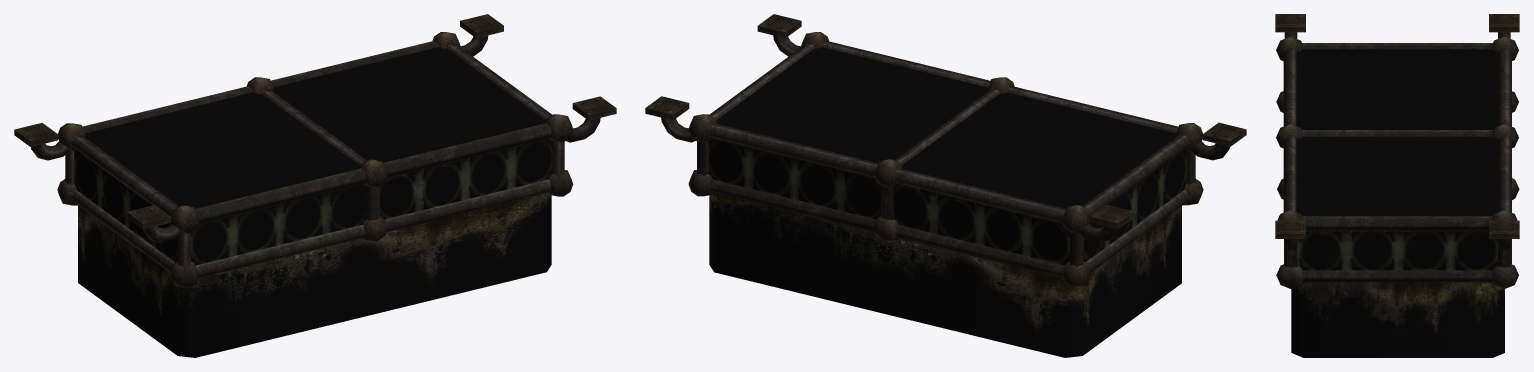
Rendered from catwalk_factory_1m_dirty.DAE.
3 renders of one model, left to right at view 1: azimuth 30°, elevation 25°; view 2: azimuth 150°, elevation 25°; view 3: azimuth 270°, elevation 25°, orthographic. The views are drawn at different scales.
Parts seen in each view (by area): view 1: Object125, Box005, Object124; view 2: Object125, Box005, Object124; view 3: Object125, Object124, Box005.
Part boxes in pixels (x1,y1,x2,y2): Object125: (74,47,552,265); Box005: (78,193,551,357); Object124: (14,14,616,287); Object125: (708,47,1186,265); Box005: (709,193,1181,357); Object124: (645,14,1246,287); Object125: (1296,49,1499,270); Object124: (1275,14,1519,288); Box005: (1291,282,1504,357).
Bounding box in the file's own units: 2.12 × 0.6666 × 0.9992.
